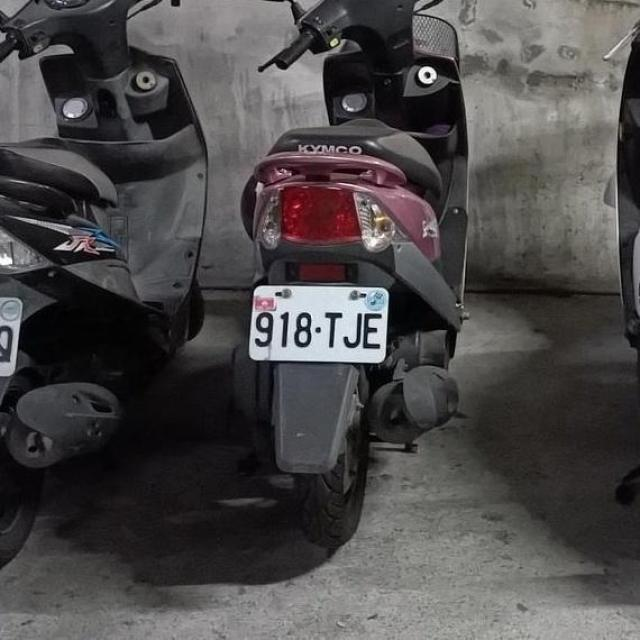W: (247, 282, 390, 364), (0, 280, 28, 386)
